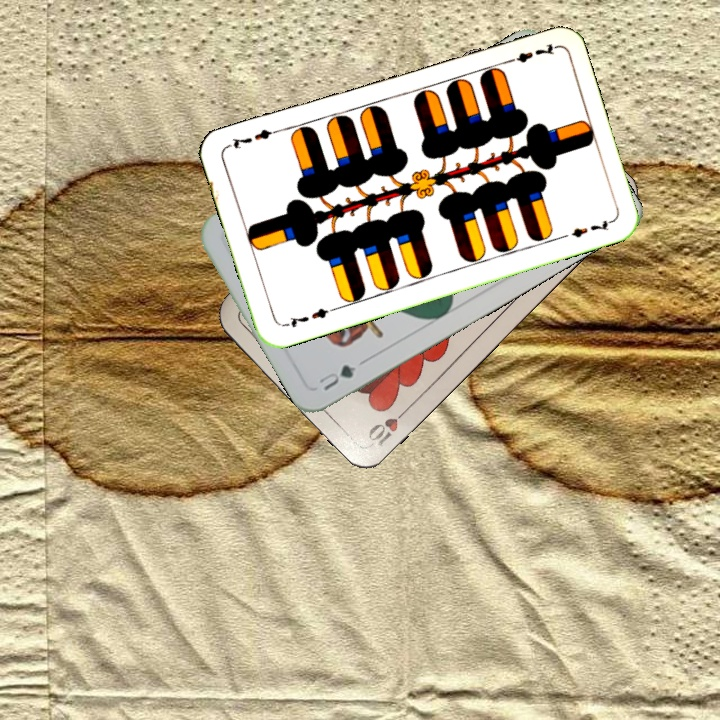E7: (500, 39, 558, 66), (279, 304, 337, 330)
GU: (314, 360, 359, 394)
H10: (364, 401, 413, 450)
